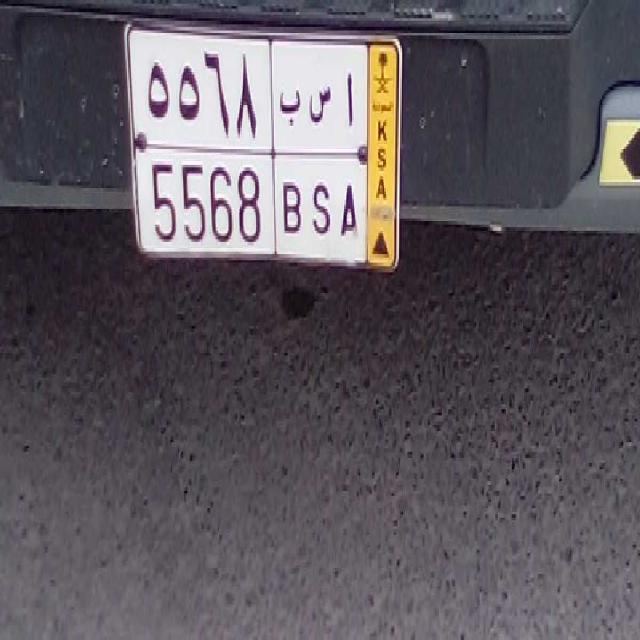license_plate: (131, 142, 368, 260)
